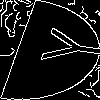Y: (24, 25, 100, 68)
